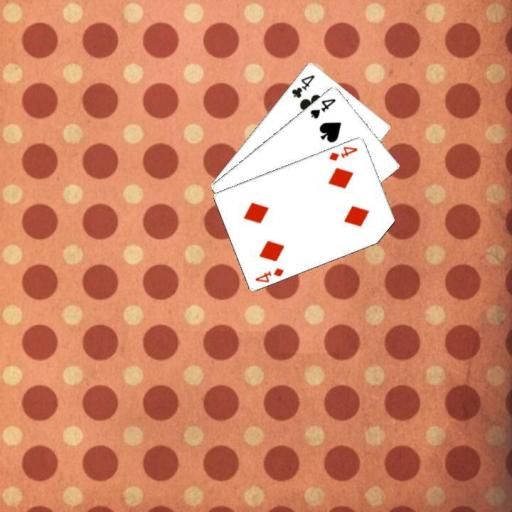4C: (288, 71, 316, 100)
4D: (252, 265, 286, 284), (326, 143, 359, 162)
4S: (307, 95, 337, 120)
